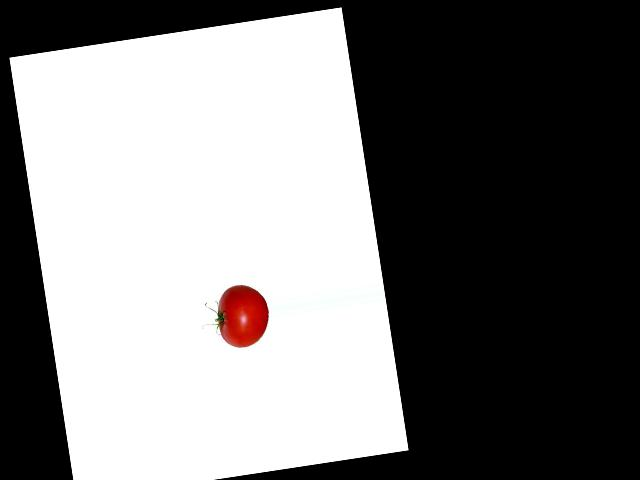tomato: (213, 282, 273, 350)
